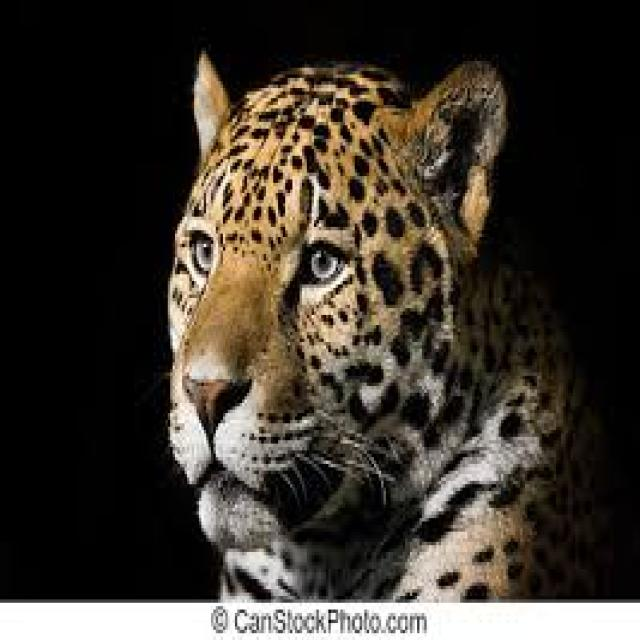Jaguar: (156, 40, 611, 602)
